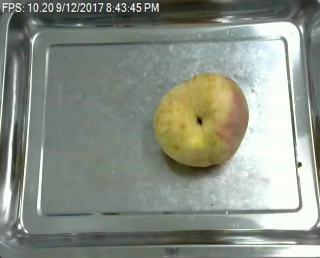Peach: (154, 71, 250, 168)
